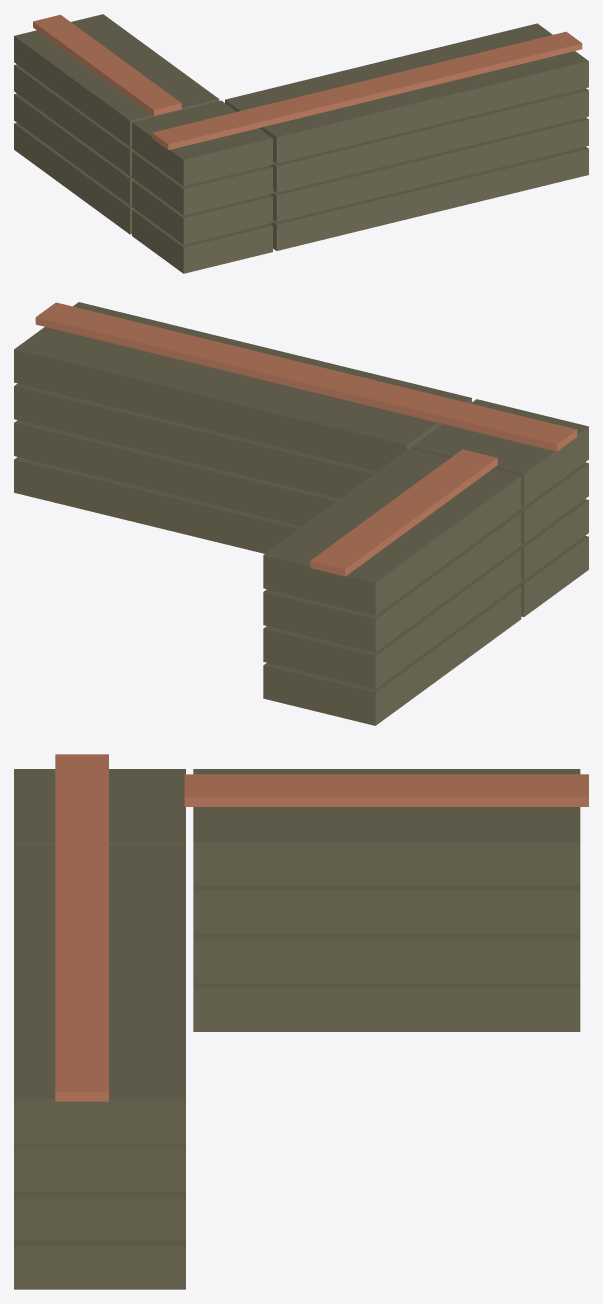
File: SM_PretilEsquinaPaso_v3_Tablon_e0_Sano_LOD1.fbx
The picture shows the model from 3 angles, top to bottom: view 1: azimuth 30°, elevation 25°; view 2: azimuth 150°, elevation 25°; view 3: azimuth 270°, elevation 25°; orthographic projection. The views are drawn at different scales.
Visible parts, largest first — view 1: SM_pretil_azotea_v52_LOD1; view 2: SM_pretil_azotea_v52_LOD1; view 3: SM_pretil_azotea_v52_LOD1.
Part boxes in pixels (x1=…): SM_pretil_azotea_v52_LOD1: x1=14, y1=14, x2=588, y2=273; SM_pretil_azotea_v52_LOD1: x1=14, y1=302, x2=588, y2=725; SM_pretil_azotea_v52_LOD1: x1=14, y1=754, x2=588, y2=1289.
Size of the model in its own units: 4.46 by 1.24 by 3.21.
